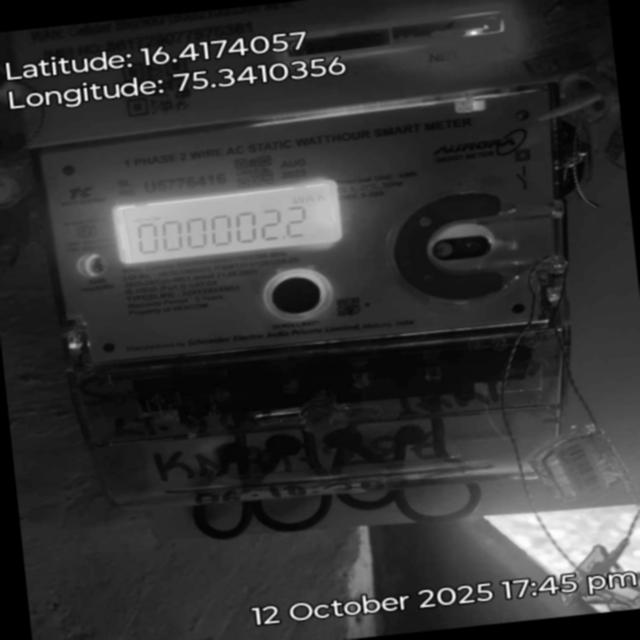meter: (19, 0, 568, 381)
